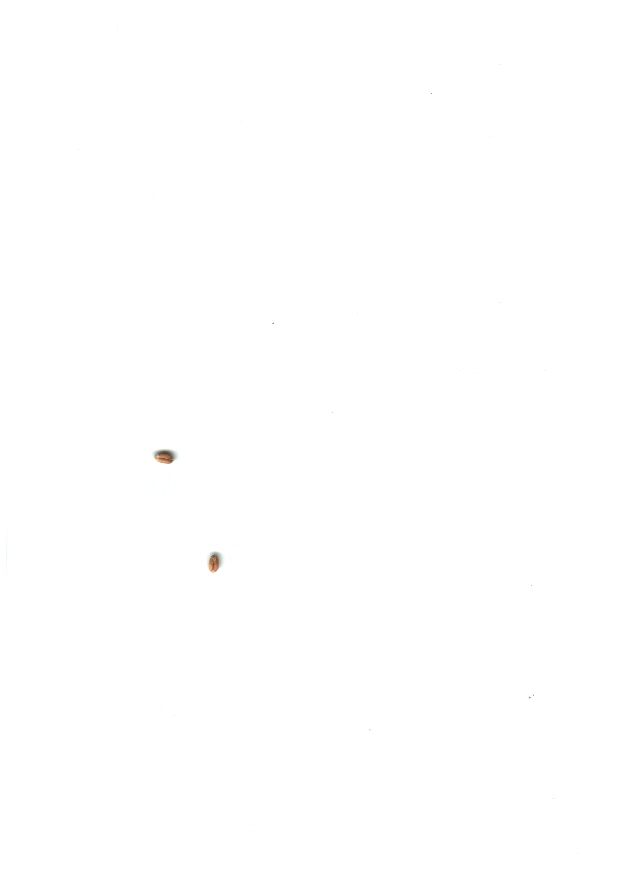grains: (194, 550, 236, 577), (150, 445, 180, 472)
